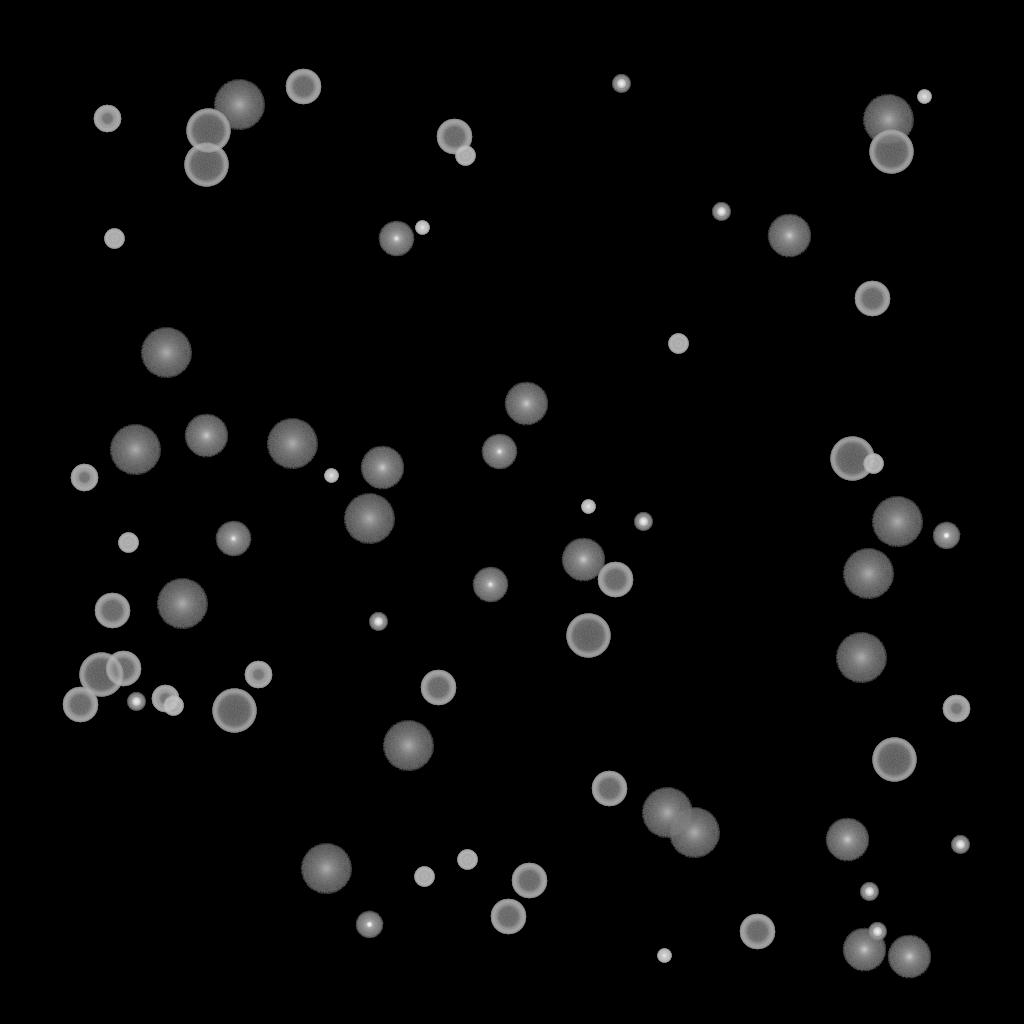depth:-10: (932, 522, 960, 550), (355, 911, 383, 939)
depth:-20: (712, 203, 730, 221), (612, 75, 630, 93), (127, 693, 145, 711), (951, 836, 969, 854), (634, 513, 652, 531), (369, 613, 387, 631), (868, 923, 886, 941), (860, 883, 878, 901)
depth:-30: (917, 90, 931, 104), (415, 221, 429, 235), (324, 469, 338, 483), (581, 500, 595, 514), (657, 949, 671, 963)
depth:-40: (163, 696, 183, 716), (104, 229, 124, 249), (457, 850, 477, 870), (863, 454, 883, 474), (414, 867, 434, 887), (118, 533, 138, 553), (455, 146, 475, 166), (668, 334, 688, 354)
depth:-50: (244, 661, 272, 689), (70, 464, 98, 492), (942, 695, 970, 723), (151, 685, 179, 713), (93, 105, 121, 133)
depth:-60: (420, 670, 456, 706), (436, 119, 472, 155), (490, 899, 526, 935), (62, 687, 98, 723), (591, 771, 627, 807), (854, 281, 890, 317), (511, 863, 547, 899), (285, 69, 321, 105), (597, 562, 633, 598), (739, 914, 775, 950), (94, 593, 130, 629), (105, 651, 141, 687)
depth:-70: (212, 689, 256, 733), (566, 614, 610, 658), (184, 143, 228, 187), (869, 130, 913, 174), (186, 109, 230, 153), (872, 738, 916, 782), (830, 437, 874, 481), (79, 653, 123, 697)
depth:0: (472, 567, 508, 603), (378, 221, 414, 257), (215, 521, 251, 557), (481, 434, 517, 470)
depth:10: (184, 414, 228, 458), (887, 935, 931, 979), (561, 538, 605, 582), (825, 818, 869, 862), (767, 214, 811, 258), (842, 928, 886, 972), (360, 446, 404, 490), (504, 382, 548, 426)
depth:20: (835, 633, 887, 683), (382, 721, 434, 771), (343, 494, 395, 544), (140, 328, 192, 378), (156, 579, 208, 629), (668, 808, 720, 858), (871, 497, 923, 547), (109, 425, 161, 475), (641, 788, 693, 838), (213, 80, 265, 130), (842, 549, 894, 599), (300, 844, 352, 894), (266, 419, 318, 469), (862, 95, 914, 145)
